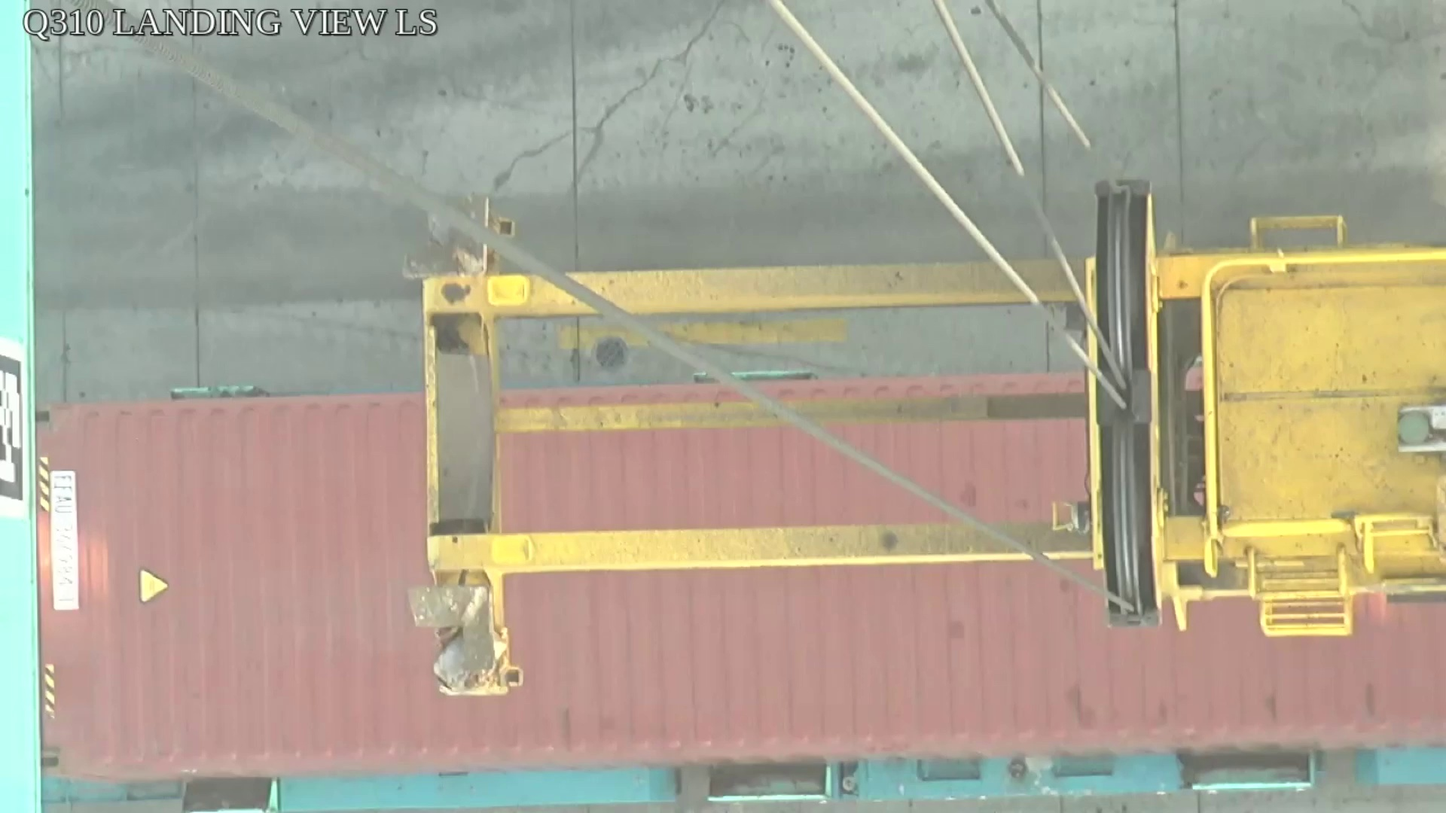aa: (1091, 178, 1167, 626)
